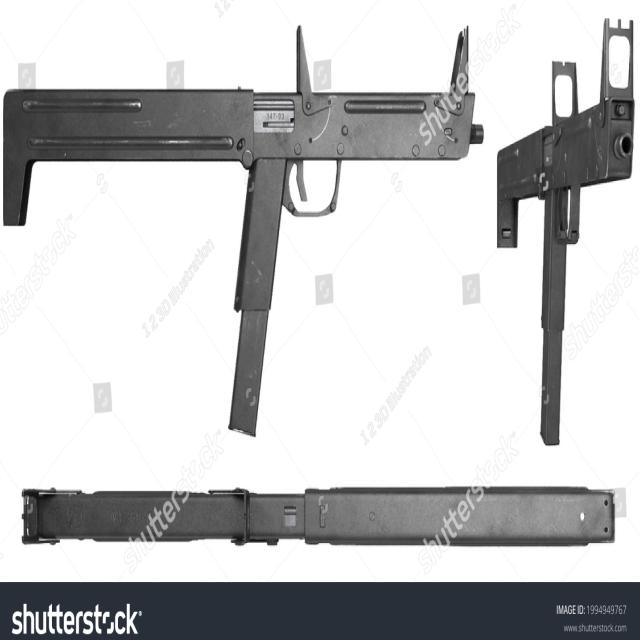Weapon: (3, 27, 482, 433), (497, 19, 634, 392)
